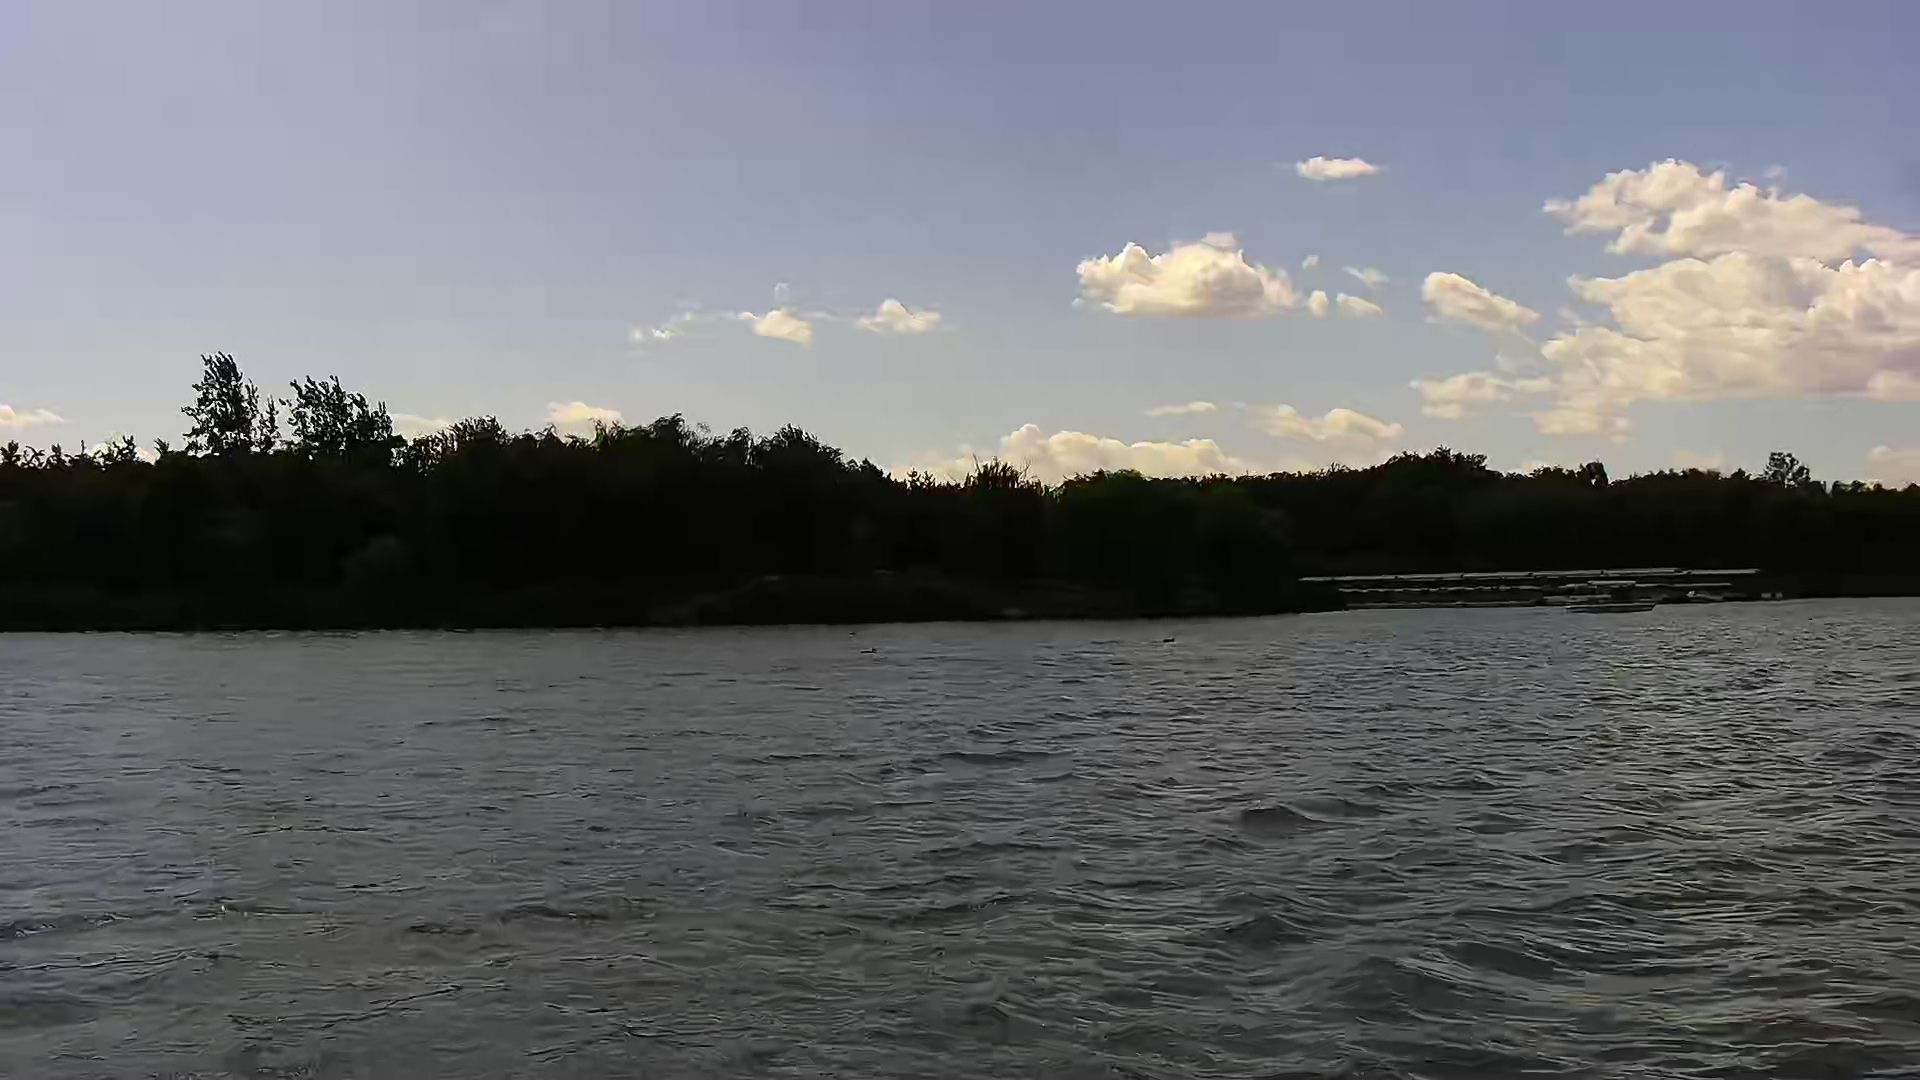boat: (1561, 574, 1663, 618)
harbor: (1300, 570, 1778, 607)
